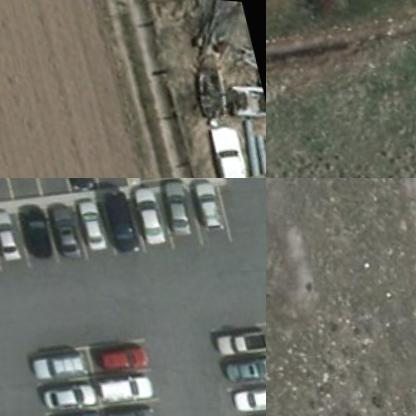boat: (184, 47, 228, 112)
car: (205, 111, 253, 177), (100, 182, 141, 254), (126, 178, 167, 250), (86, 330, 152, 372), (22, 342, 88, 383), (92, 363, 158, 404), (27, 372, 93, 412), (203, 315, 265, 357), (156, 178, 196, 240), (209, 340, 265, 382), (184, 178, 225, 230), (15, 197, 50, 255), (65, 186, 100, 244), (217, 369, 265, 411), (48, 200, 82, 258), (98, 391, 165, 415), (0, 200, 19, 259), (35, 400, 101, 415)
